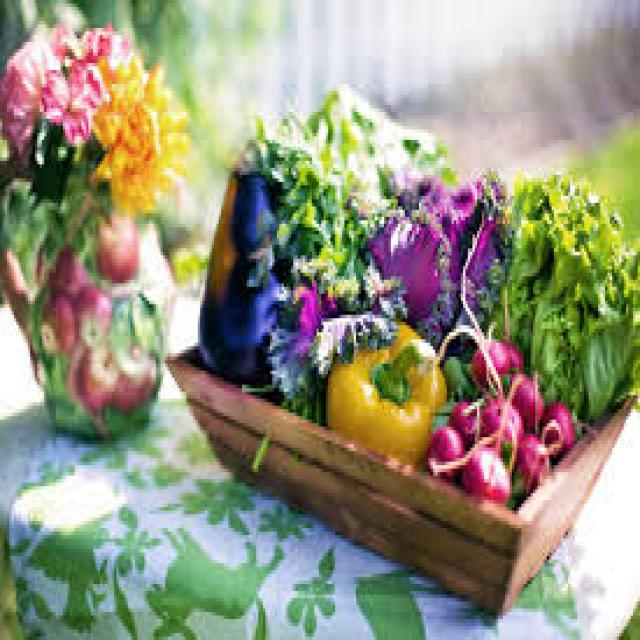organic waste: (488, 171, 638, 420), (261, 84, 454, 248), (263, 199, 403, 413), (365, 172, 510, 354), (198, 126, 286, 388), (316, 311, 447, 451), (93, 56, 193, 199), (0, 14, 65, 161), (42, 60, 98, 136), (58, 14, 133, 59), (460, 444, 510, 497), (470, 325, 510, 381), (426, 420, 463, 479), (508, 371, 544, 430), (479, 392, 522, 441), (538, 392, 572, 451), (514, 430, 547, 490), (498, 325, 519, 378), (447, 350, 470, 395), (451, 398, 475, 441)
